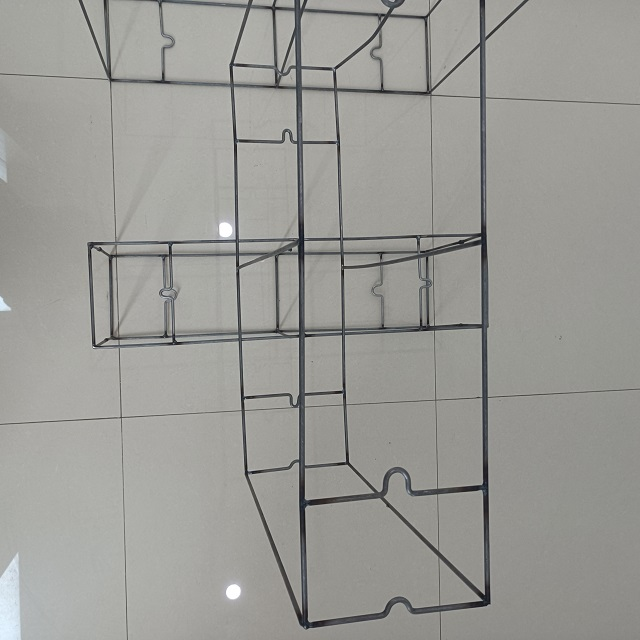curvedhole: (370, 459, 427, 508), (369, 589, 425, 626), (263, 54, 299, 79), (280, 387, 310, 414), (154, 24, 178, 55), (368, 274, 391, 305), (271, 124, 303, 146), (414, 269, 436, 300), (281, 454, 312, 475), (155, 280, 175, 312), (367, 38, 387, 70)
